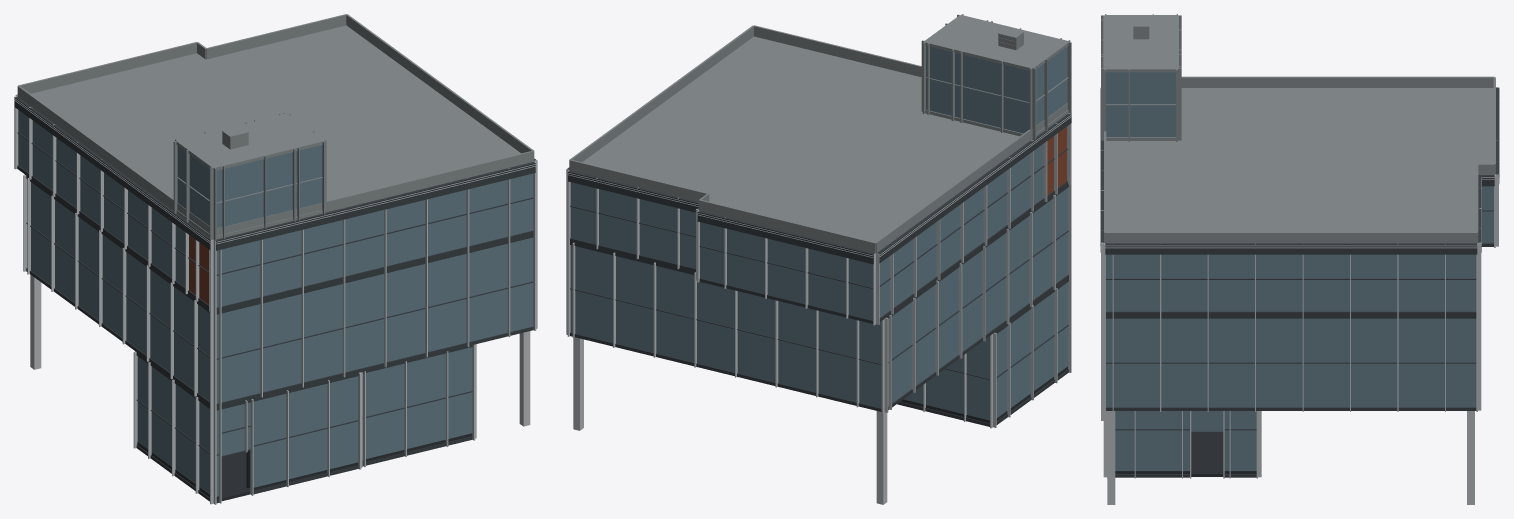
The model's file is building-v5-lod1.glb.
3 renders of one model, left to right at view 1: azimuth 30°, elevation 25°; view 2: azimuth 150°, elevation 25°; view 3: azimuth 270°, elevation 25°, orthographic.
Parts seen in each view (by area): view 1: building-v5_MATERIAL_BATCH; view 2: building-v5_MATERIAL_BATCH; view 3: building-v5_MATERIAL_BATCH.
Boxes of the visible parts, left/top/right/bottom form: building-v5_MATERIAL_BATCH: left=14, top=14, right=537, bottom=504; building-v5_MATERIAL_BATCH: left=566, top=14, right=1071, bottom=504; building-v5_MATERIAL_BATCH: left=1100, top=14, right=1499, bottom=504.
Size of the model in its own units: 21.45 by 21.8 by 22.7.
